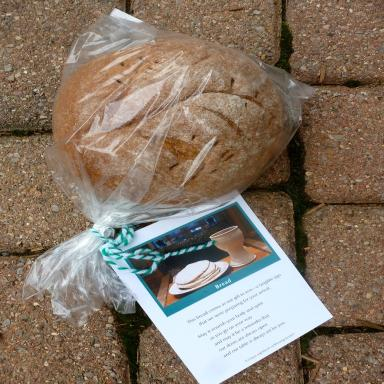plasticbag: (20, 5, 320, 330)
